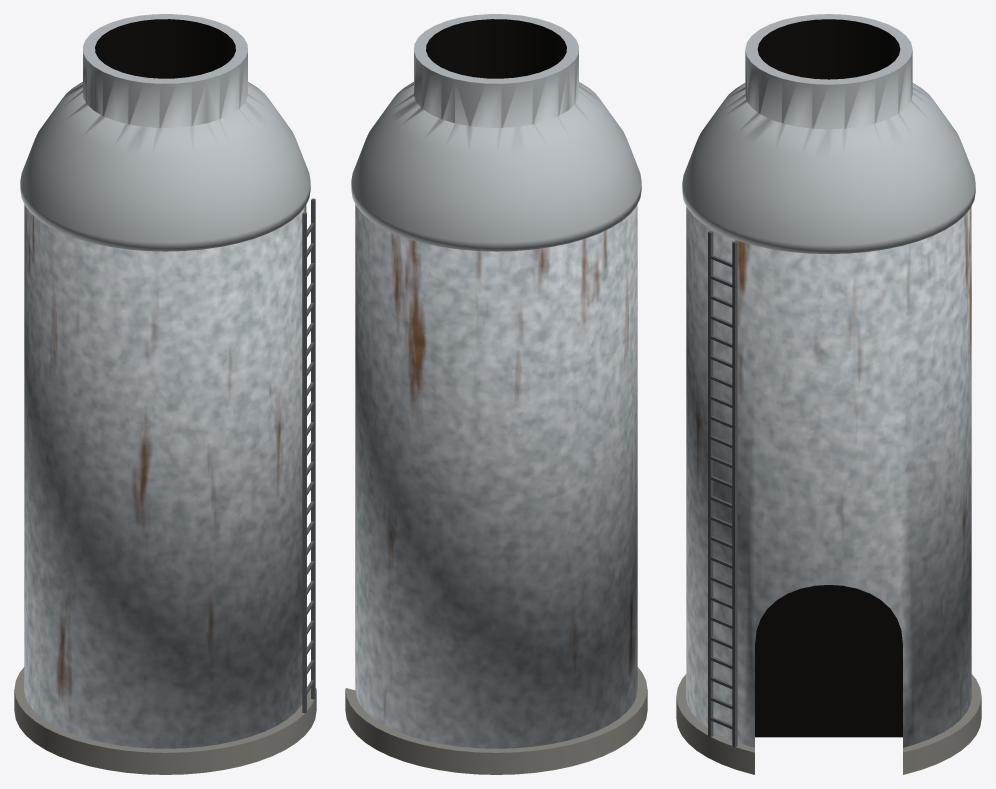
The model's file is farm-silo.glb.
3 views of the same model, side by side, from view 1: azimuth 30°, elevation 25°; view 2: azimuth 150°, elevation 25°; view 3: azimuth 270°, elevation 25° (orthographic).
Parts seen in each view (by area): view 1: silo, dome, plinth, ladder; view 2: silo, dome, plinth; view 3: silo, dome, plinth, ladder.
Part boxes in pixels (left/top/right/bottom): silo: left=24, top=204, right=306, bottom=748; dome: left=20, top=14, right=310, bottom=251; plinth: left=14, top=667, right=316, bottom=774; ladder: left=302, top=198, right=315, bottom=713; silo: left=355, top=204, right=637, bottom=748; dome: left=351, top=14, right=641, bottom=251; plinth: left=345, top=667, right=647, bottom=774; silo: left=686, top=207, right=971, bottom=747; dome: left=682, top=14, right=975, bottom=253; plinth: left=676, top=674, right=981, bottom=774; ladder: left=708, top=230, right=737, bottom=747.
Size of the model in its own units: 6.08 by 15 by 6.2.
Materials: 6 (1 with a texture image).
